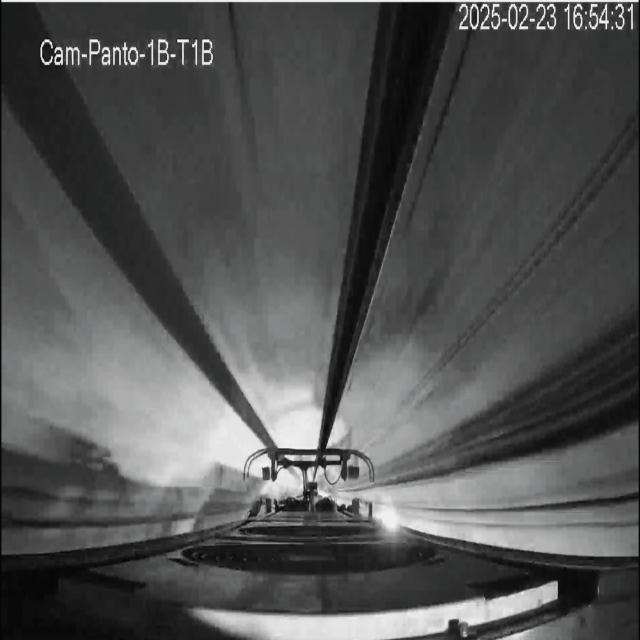Camera Stamp: (33, 28, 219, 73)
Date Stamp: (454, 2, 629, 35)
No - Spark: (247, 426, 311, 505), (379, 505, 404, 534)
